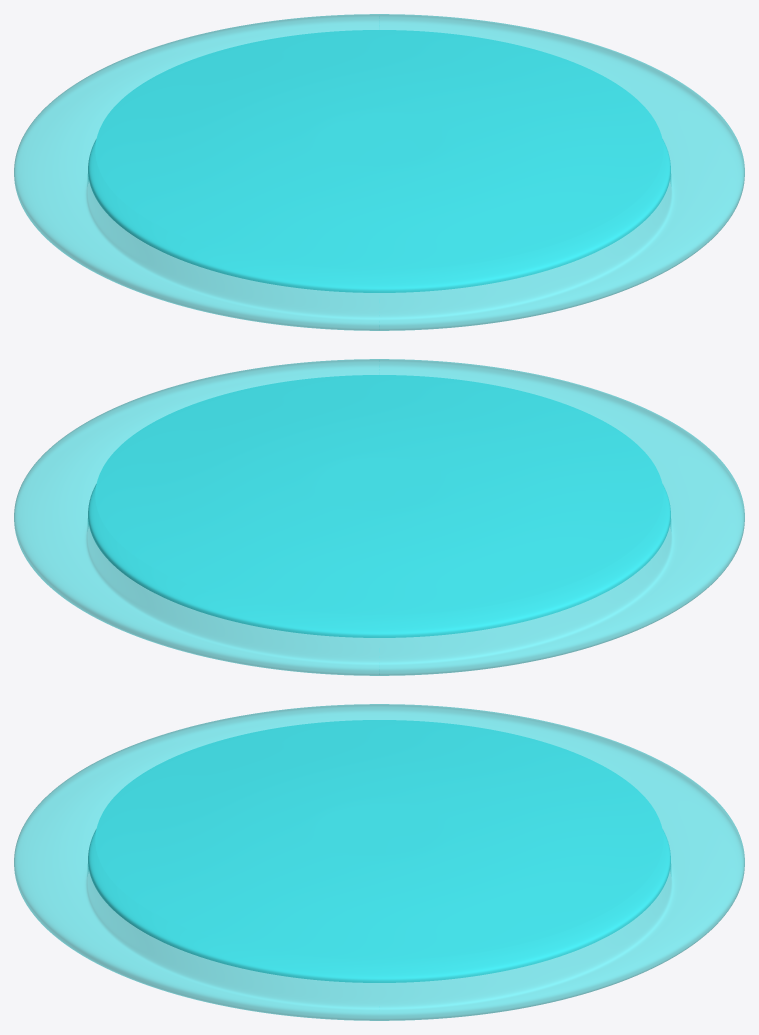
The model's file is frisbee.glb.
3 renders of one model, top to bottom at view 1: azimuth 30°, elevation 25°; view 2: azimuth 150°, elevation 25°; view 3: azimuth 270°, elevation 25°, orthographic.
Parts seen in each view (by area): view 1: D1 Disc_0; view 2: D1 Disc_0; view 3: D1 Disc_0.
Boxes of the visible parts, left/top/right/bottom form: D1 Disc_0: left=14, top=14, right=744, bottom=330; D1 Disc_0: left=14, top=359, right=744, bottom=675; D1 Disc_0: left=14, top=704, right=744, bottom=1020.
Size of the model in its own units: 1.03 by 0.0863 by 1.03.
